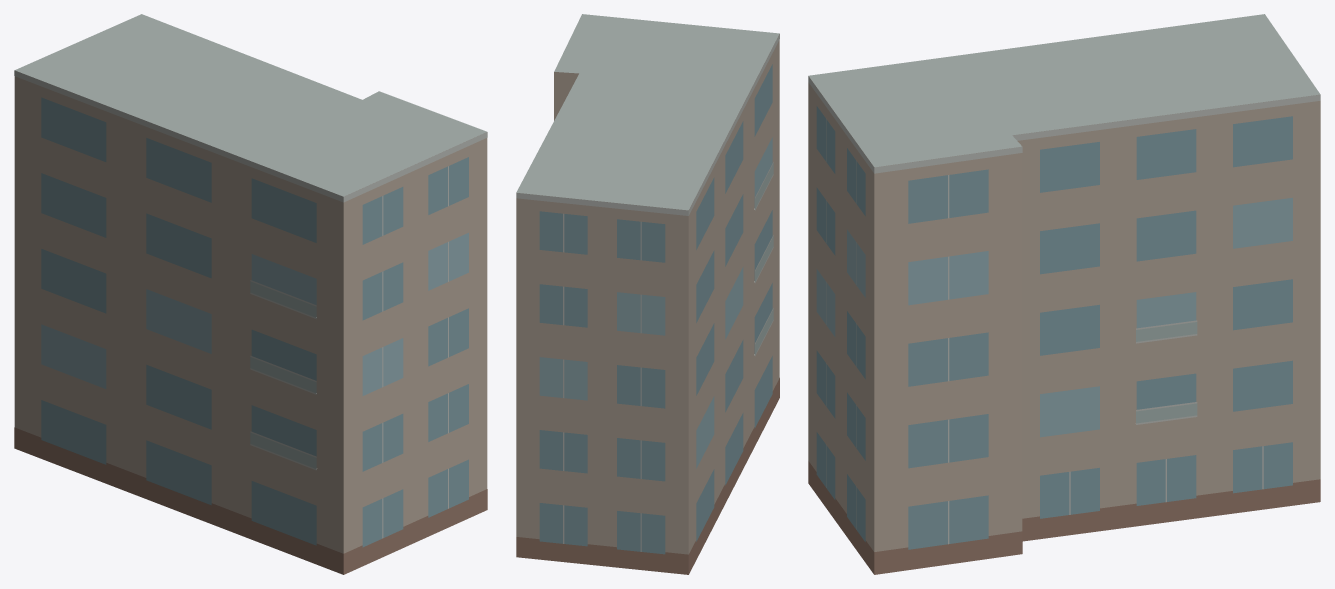
The model's file is survey-upis-33040750.glb.
The picture shows the model from 3 angles, left to right: view 1: azimuth 30°, elevation 25°; view 2: azimuth 150°, elevation 25°; view 3: azimuth 270°, elevation 25°; orthographic projection. The views are drawn at different scales.
Visible parts, largest first — view 1: survey-upis-33040750.tmp; view 2: survey-upis-33040750.tmp; view 3: survey-upis-33040750.tmp.
Boxes of the visible parts, x1=… form: survey-upis-33040750.tmp: x1=14, y1=14, x2=487, y2=574; survey-upis-33040750.tmp: x1=516, y1=14, x2=779, y2=574; survey-upis-33040750.tmp: x1=808, y1=14, x2=1320, y2=574.
Bounding box in the file's own units: 12.81 × 15.85 × 18.07.
